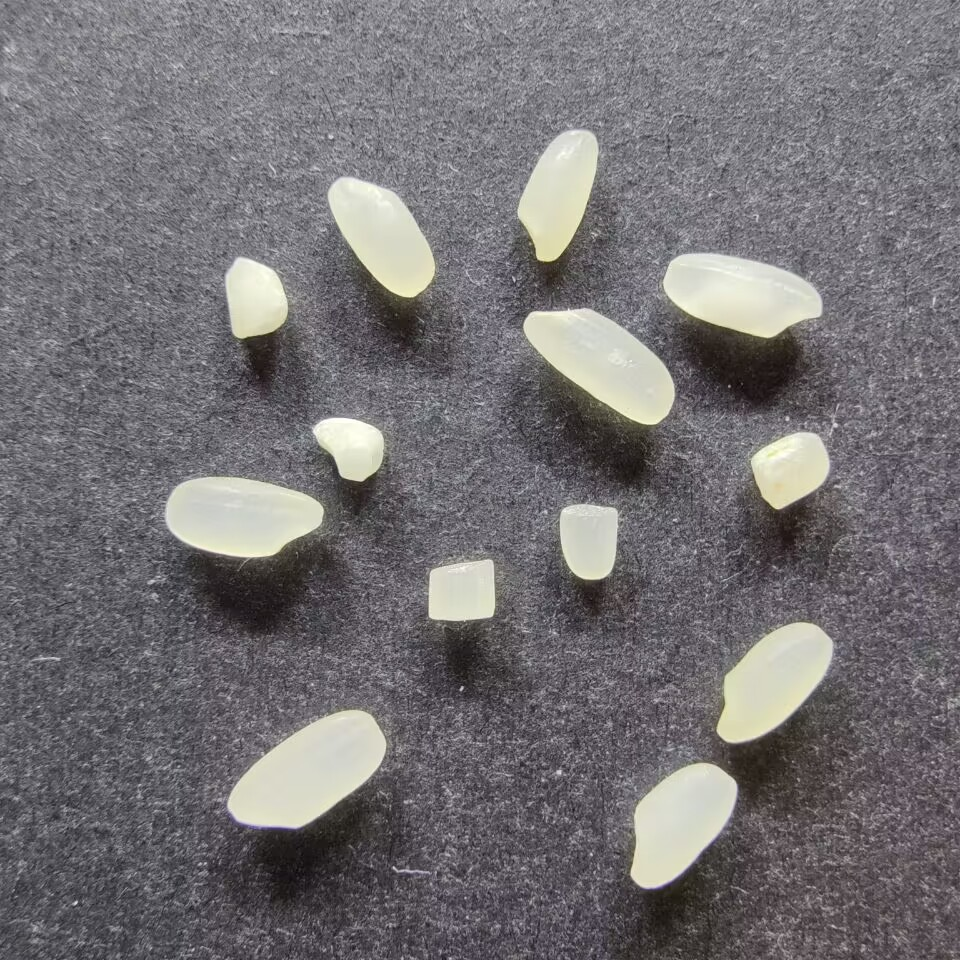broken: (747, 429, 831, 511), (221, 253, 289, 339), (310, 416, 388, 484), (424, 555, 498, 624), (557, 501, 620, 582)
rice: (223, 706, 387, 831), (519, 306, 678, 426), (713, 620, 836, 745), (659, 250, 825, 341), (626, 759, 739, 890), (326, 174, 437, 299), (162, 474, 324, 559), (513, 126, 600, 263)
